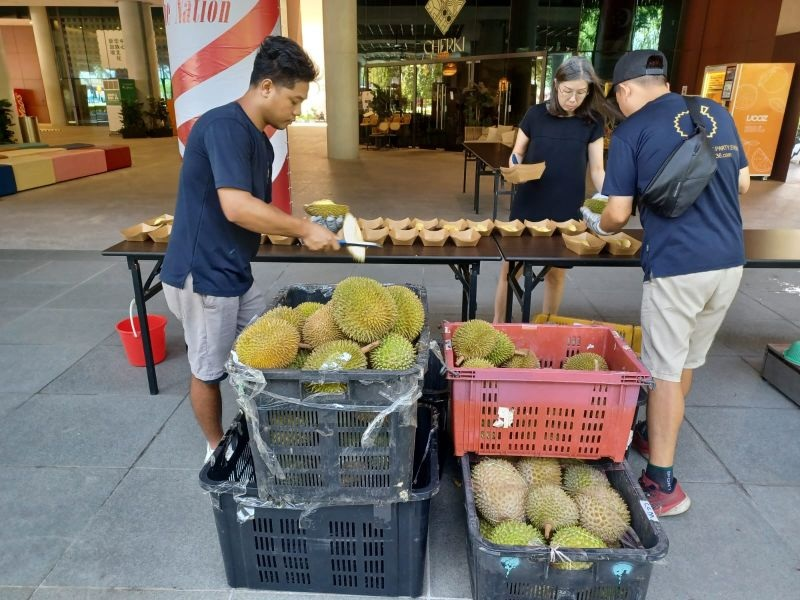bulk_waste: (229, 276, 429, 503), (212, 433, 438, 595), (459, 454, 668, 599), (443, 322, 651, 459), (200, 417, 254, 499)
